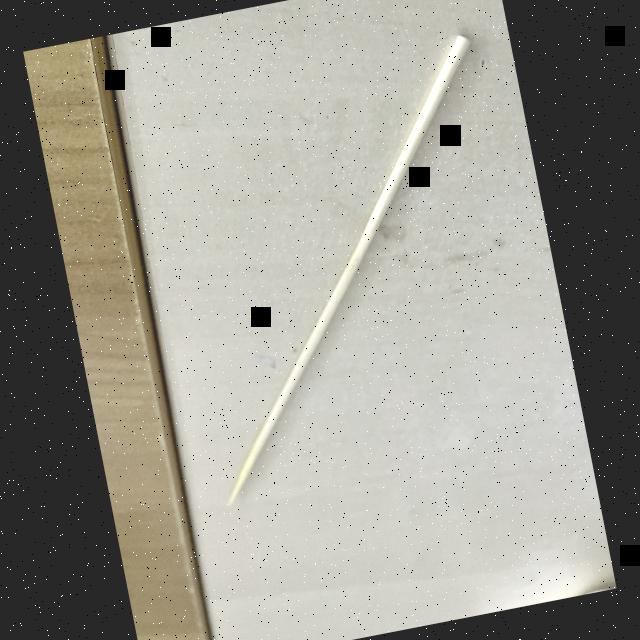stick: (146, 31, 555, 512)
